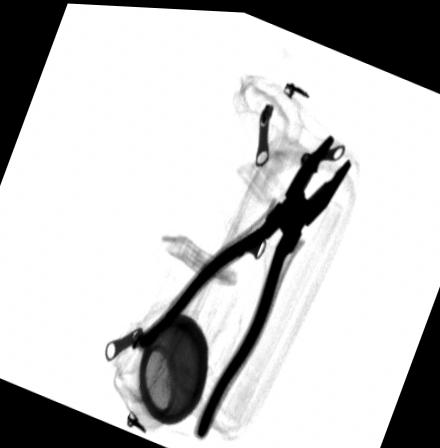Pliers: (137, 128, 353, 438)
